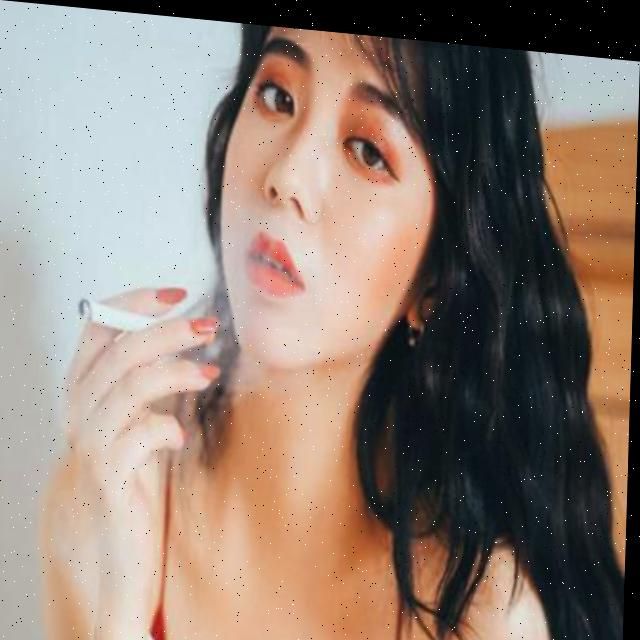cigarette: (80, 291, 162, 337)
